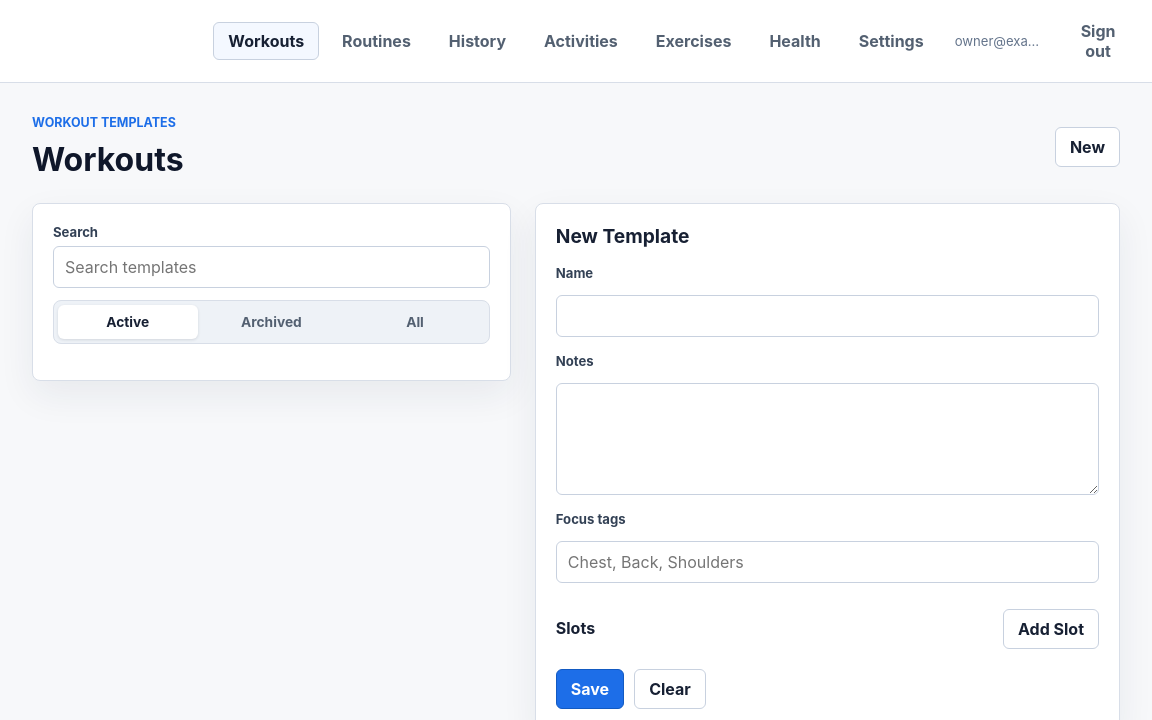
Test: App › renders exercises from the API
This screenshot has width=1152, height=720.
What coordinates should you click on to do the following:
click the button "Exercises"
I would click on:
 (694, 41)
Its box is [641,22,746,60].
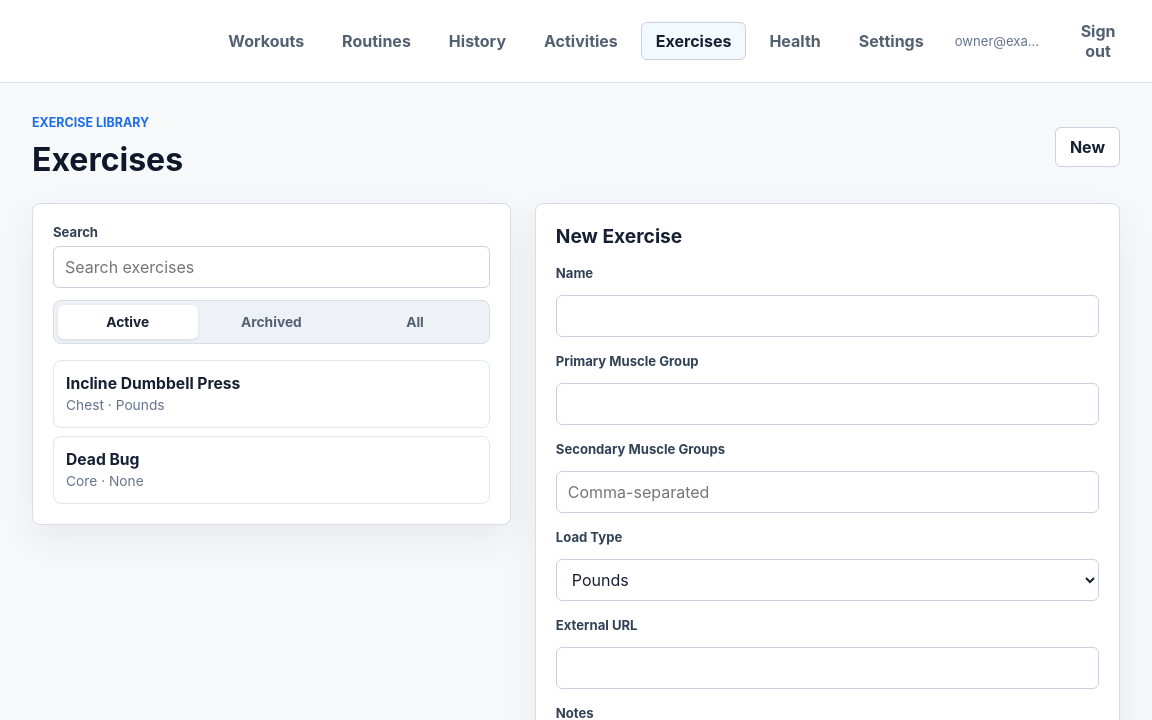
Now the heading "Exercises" is shown, box [32,142,183,179]
Now the text "Incline Dumbbell Press" is shown, box [66,374,240,393]
Now the text "Dead Bug" is shown, box [66,450,144,469]
